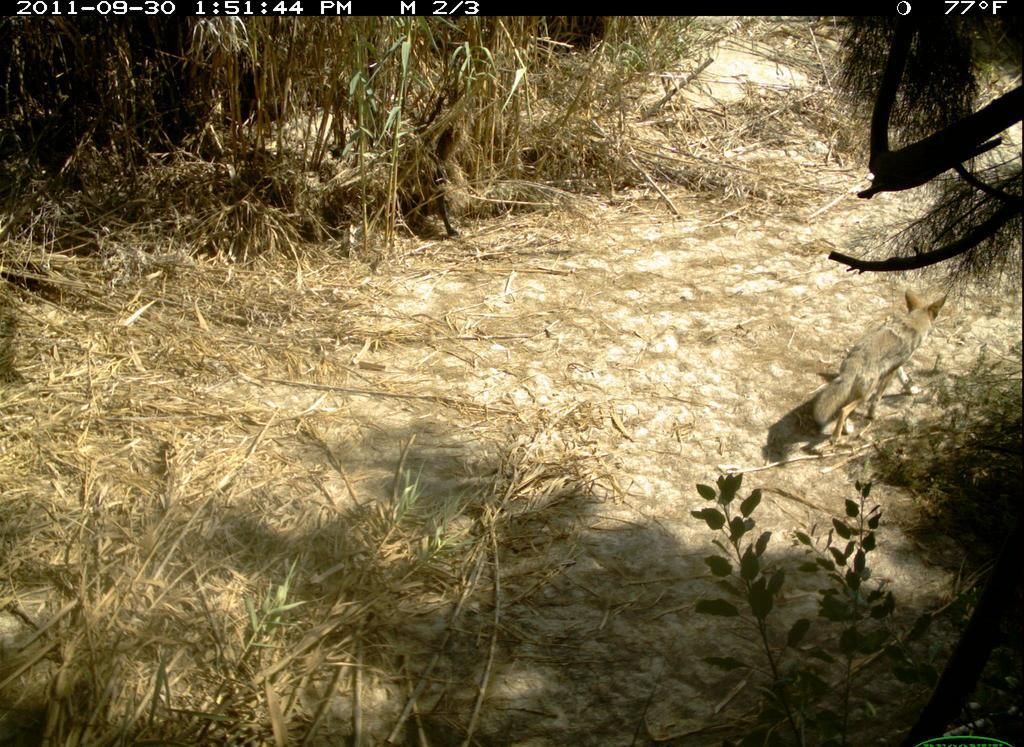coyote: (802, 278, 962, 455)
